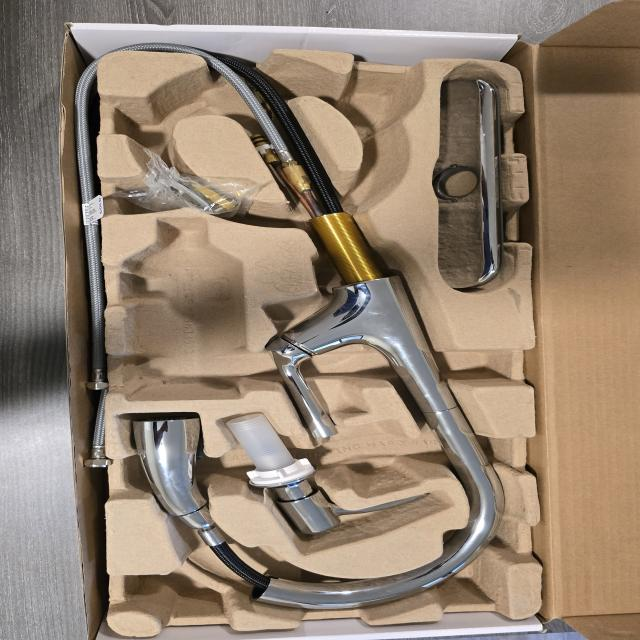1: (131, 48, 506, 610)
2: (222, 413, 432, 537)
3m: (119, 218, 244, 400)
4: (433, 77, 506, 290)
5m: (330, 78, 417, 135)
6: (106, 147, 265, 219)
7m: (110, 77, 211, 151)
